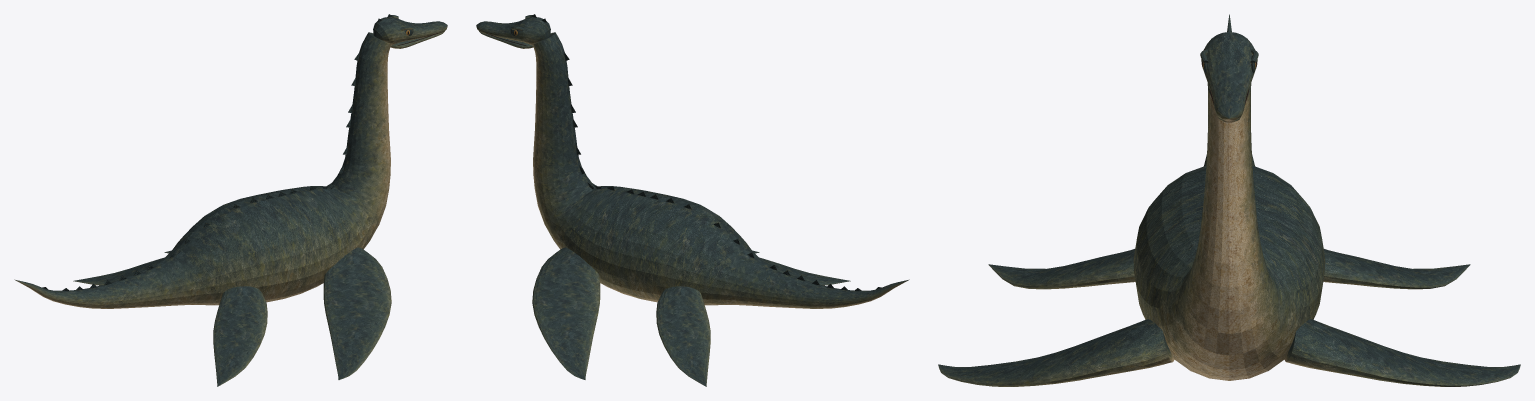
File: nahuelito.obj
The picture shows the model from 3 angles, left to right: view 1: azimuth 30°, elevation 25°; view 2: azimuth 150°, elevation 25°; view 3: azimuth 270°, elevation 25°; orthographic projection. The views are drawn at different scales.
Bounding box in the file's own units: 384 × 228 × 268.
3 materials, 3 textured.
